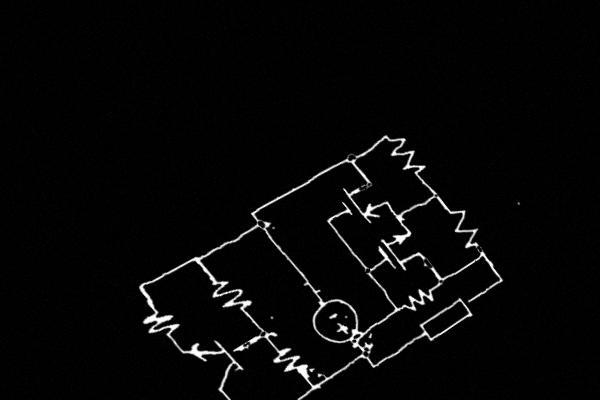resistor: (128, 292, 193, 355), (198, 264, 260, 327), (434, 195, 494, 260), (378, 126, 436, 188), (263, 334, 320, 392), (394, 277, 443, 320), (216, 385, 267, 400)
voltage: (295, 281, 370, 353)
